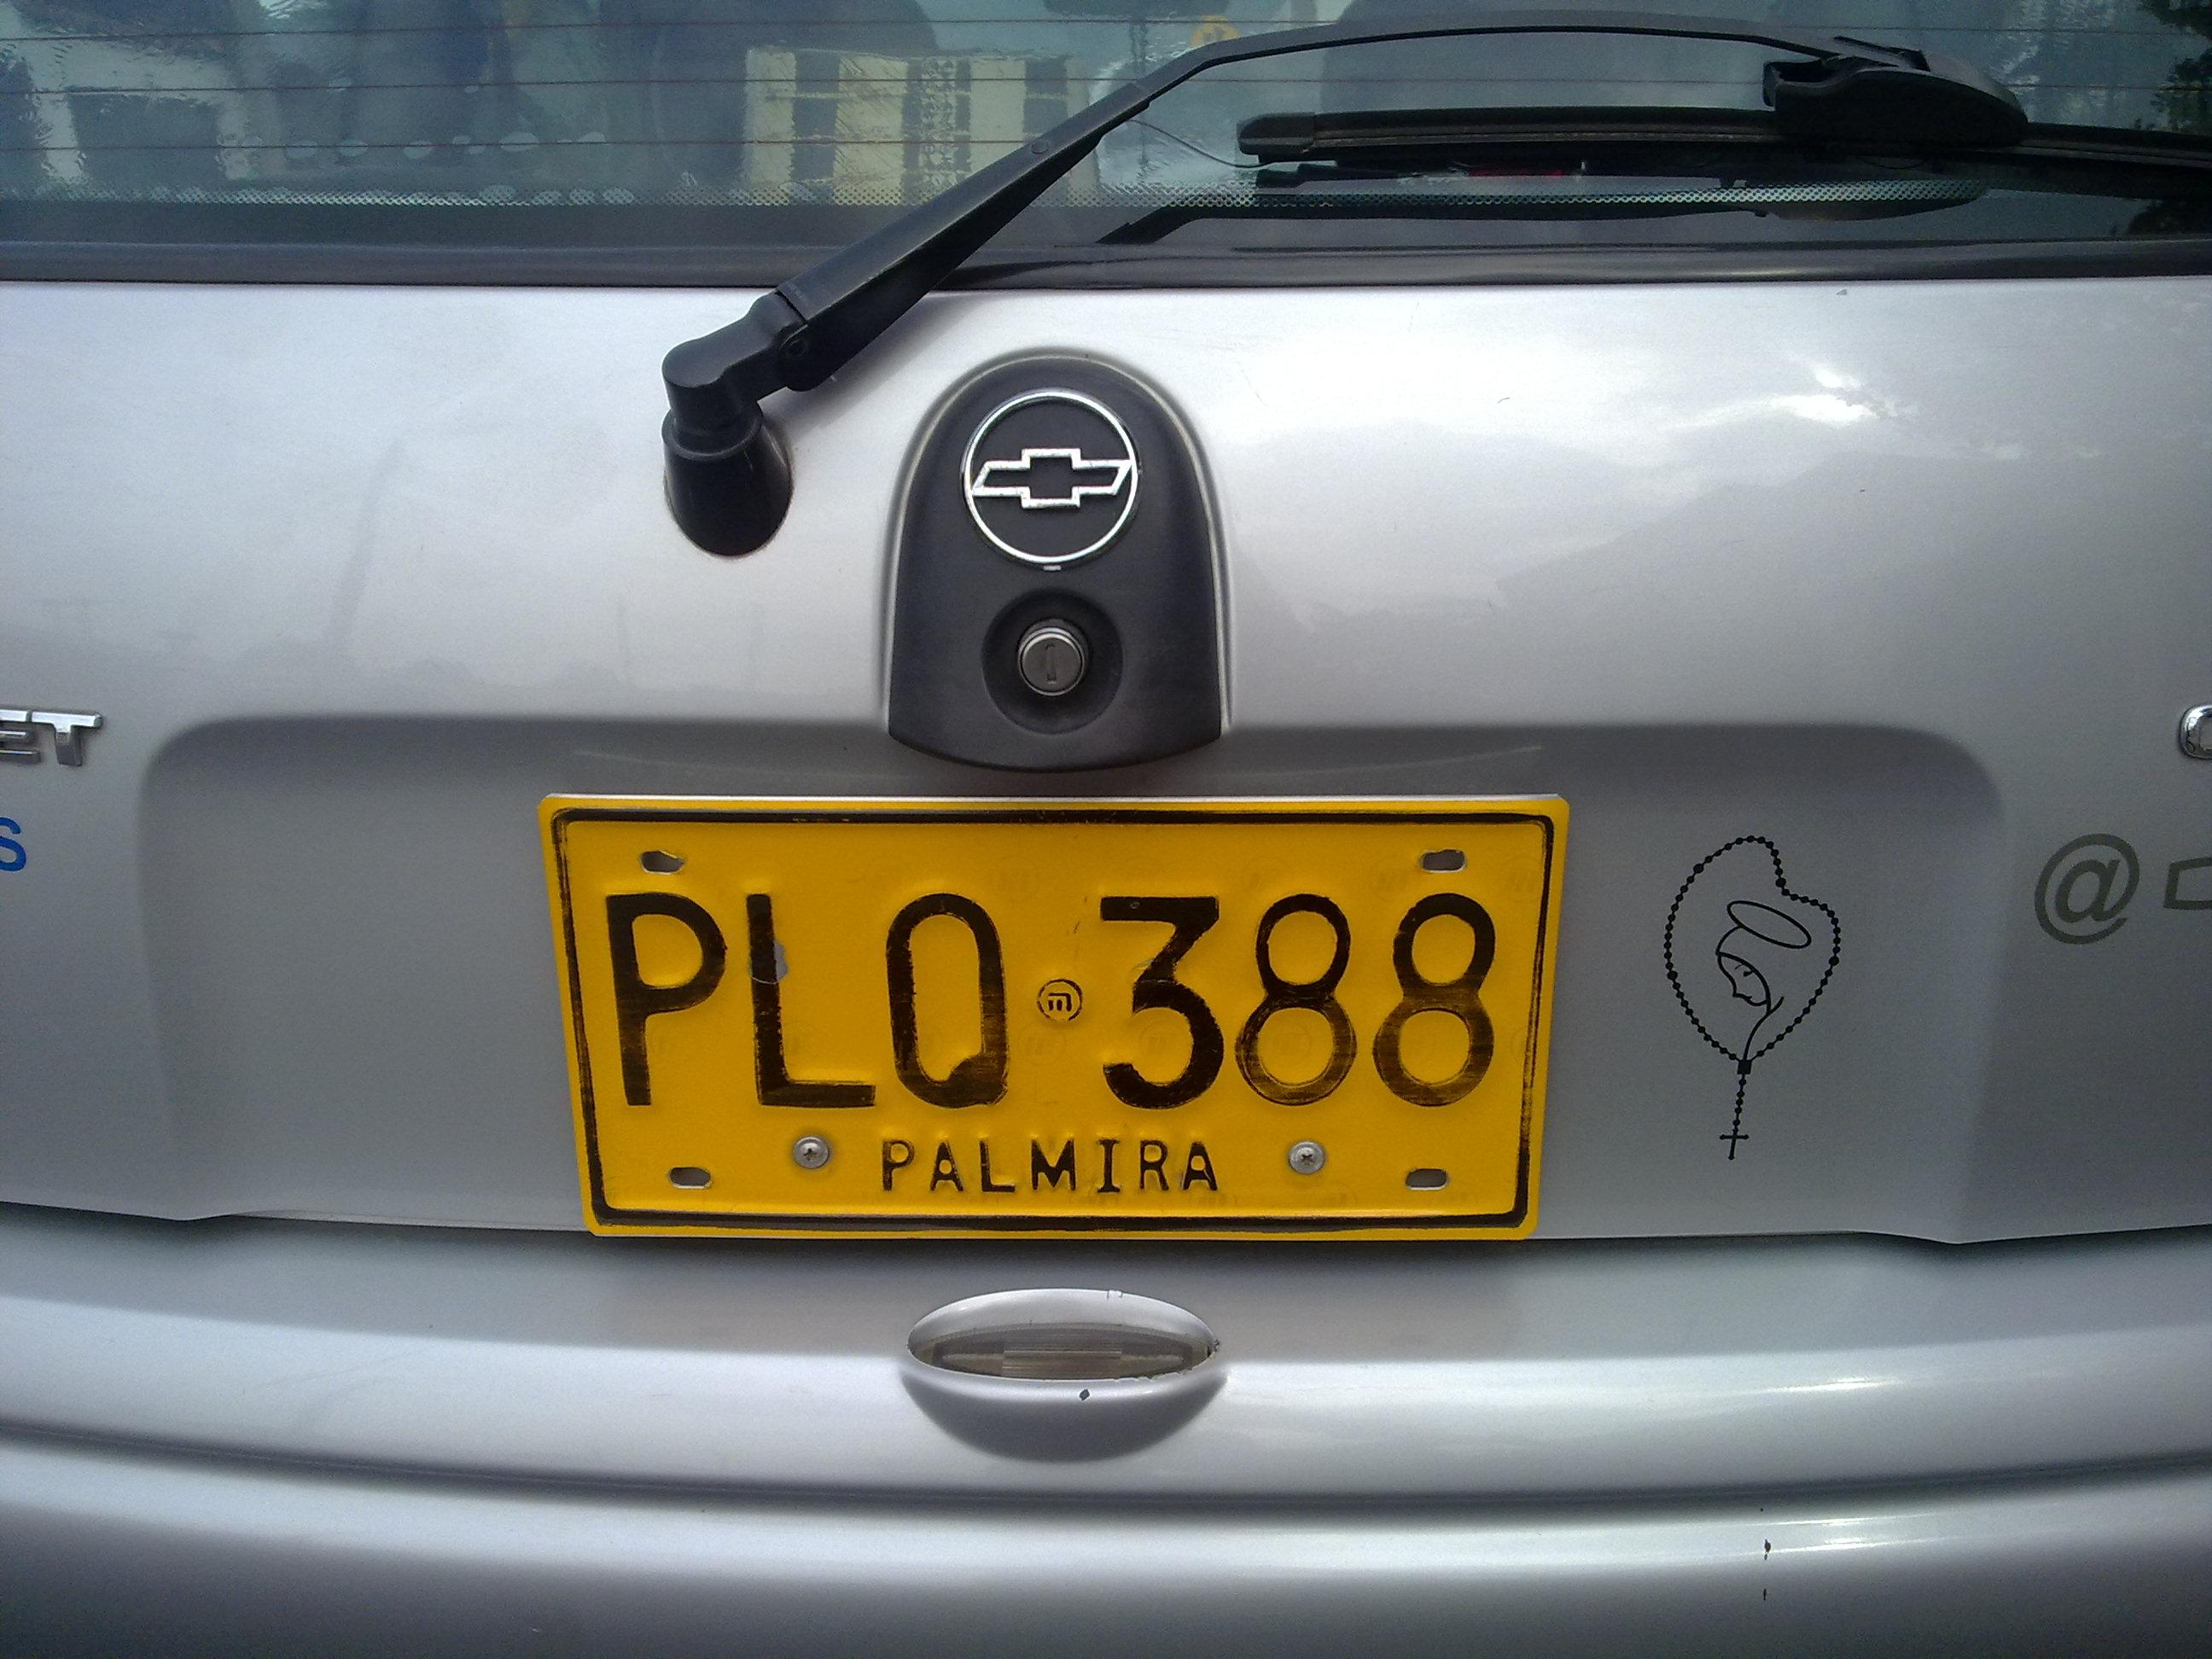placas: (531, 780, 1579, 1252)
